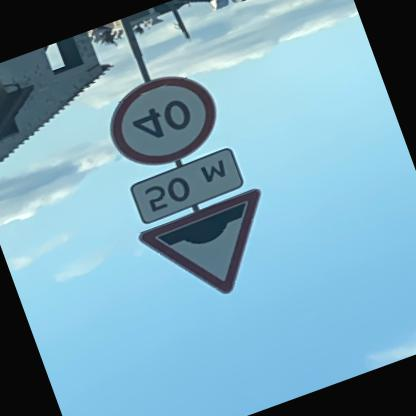speedlimit: (94, 64, 227, 180)
